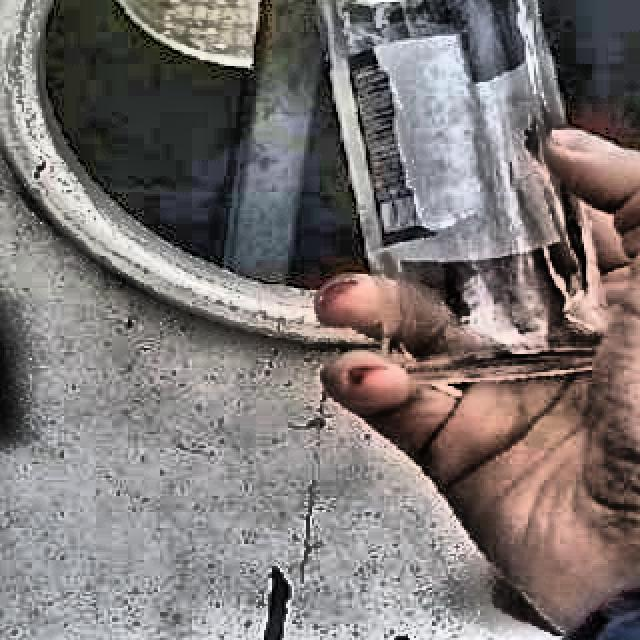glass: (320, 0, 605, 383)
